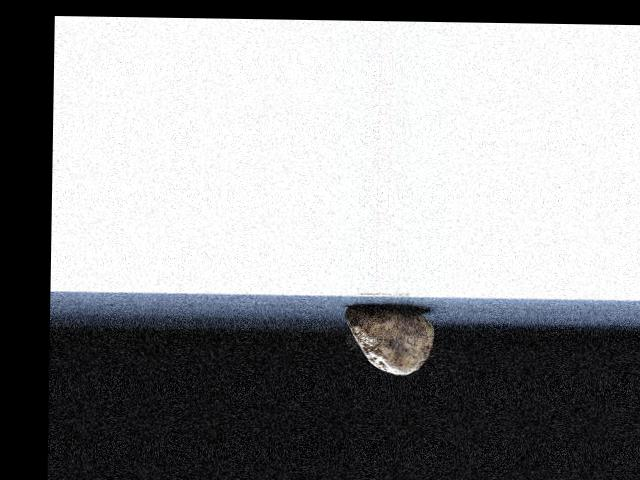beet: (345, 307, 436, 374)
